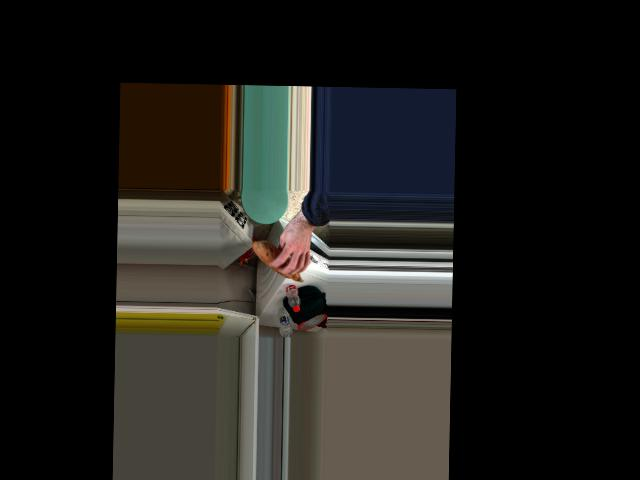sweet_potato: (255, 242, 308, 280)
